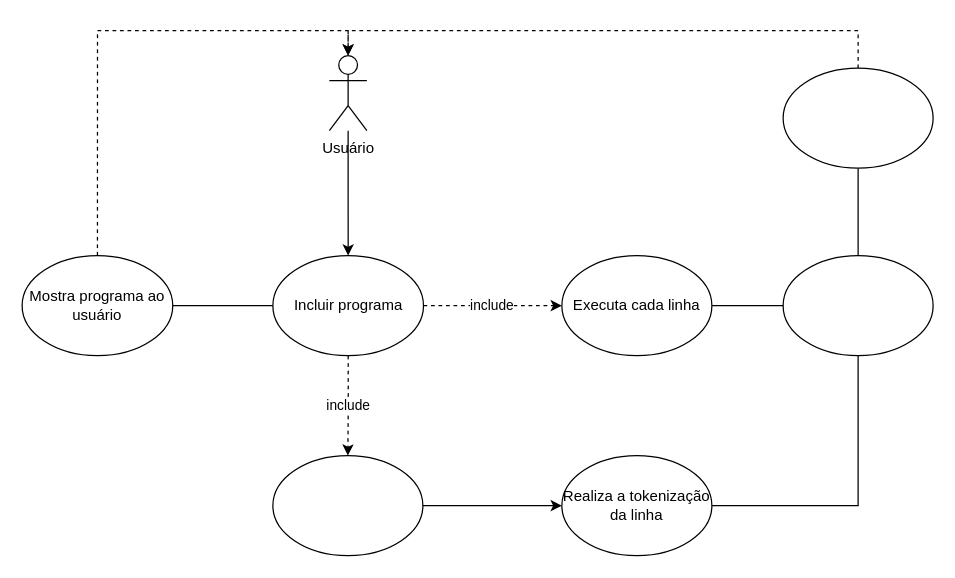
Some shapes in this 955 by 578 pixel diagram are drawn without their labels. The shapes that lost their labels are listed below. From the top down, each one's centre as x and y in pixels, then its label:
pixel 857 117: Mostra dados das variáveis para o usuário
pixel 857 305: Reconhece as variáveis e e seus valores
pixel 347 505: Reconhece cada linha do programa
